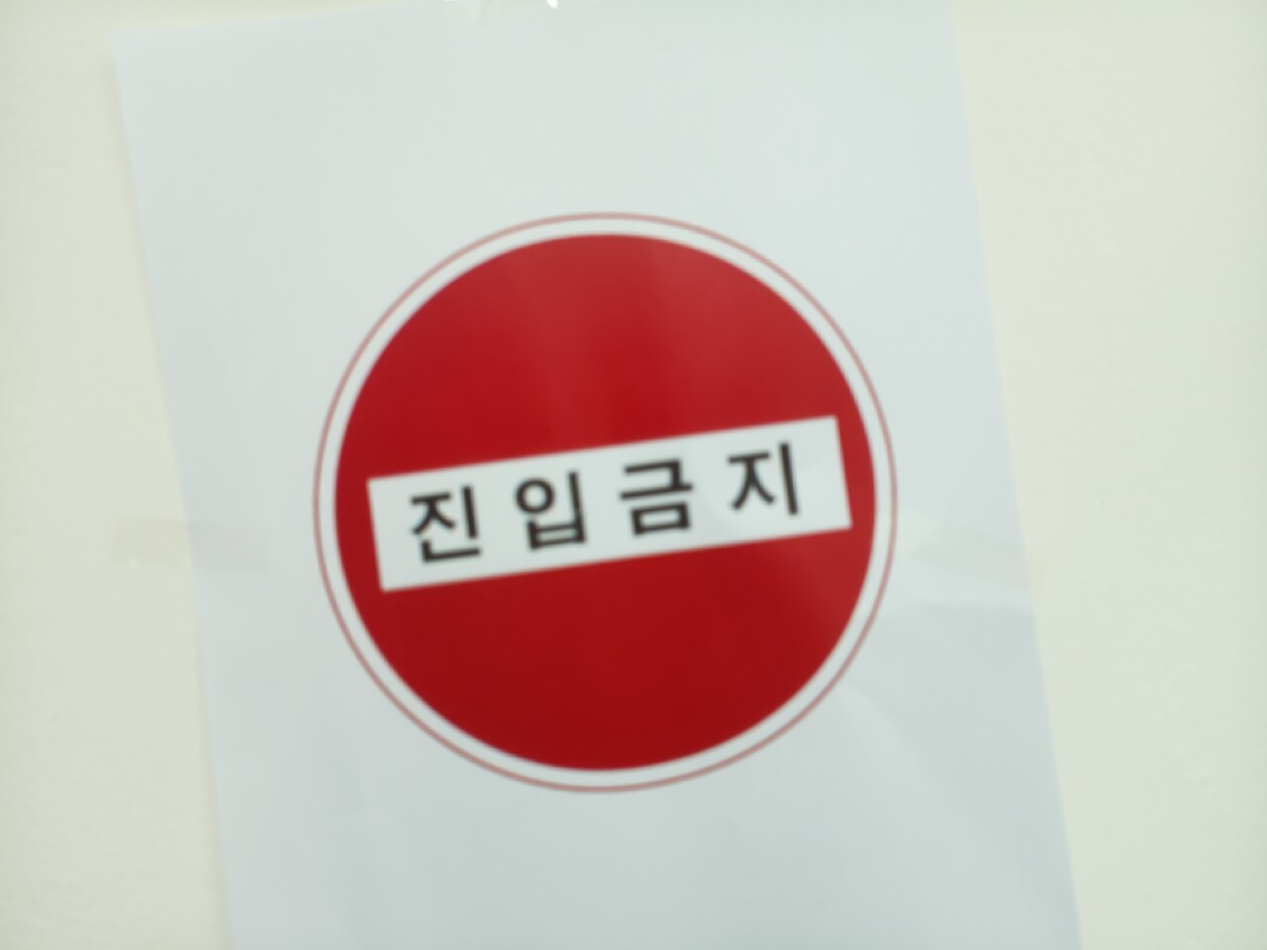do_not_enter: (320, 220, 890, 786)
